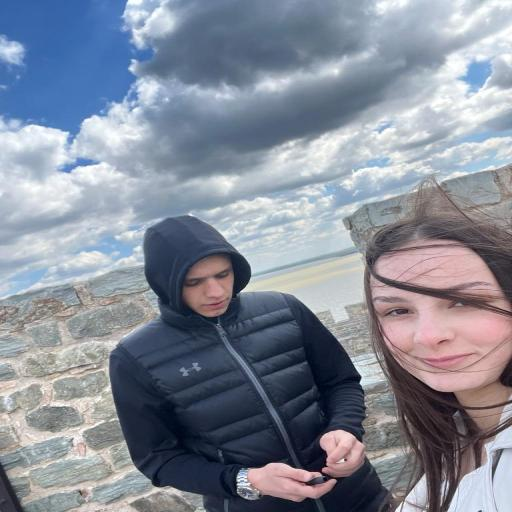marija: (364, 239, 512, 392)
